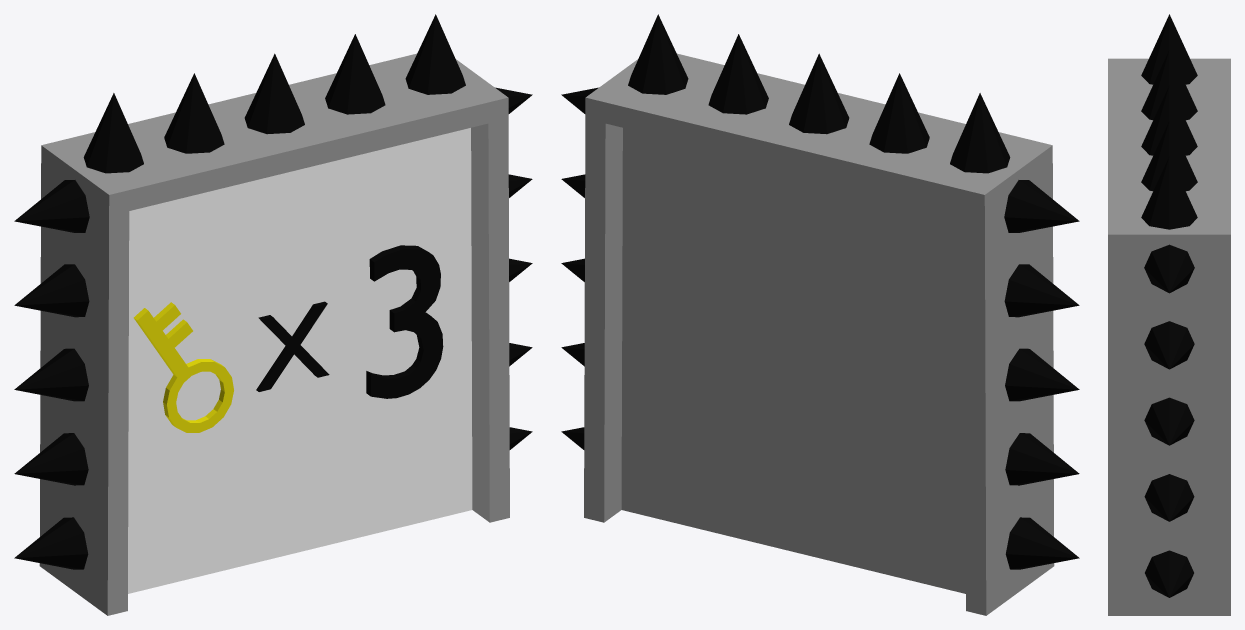
File: key_door.fbx
3 renders of one model, left to right at view 1: azimuth 30°, elevation 25°; view 2: azimuth 150°, elevation 25°; view 3: azimuth 270°, elevation 25°, orthographic. The views are drawn at different scales.
Visible parts, largest first — view 1: Mesh; view 2: Mesh; view 3: Mesh.
Part boxes in pixels (x1=…): Mesh: x1=14, y1=14, x2=532, y2=615; Mesh: x1=561, y1=14, x2=1079, y2=615; Mesh: x1=1108, y1=14, x2=1230, y2=615.
Size of the model in its own units: 2.58 by 2.32 by 0.5853.
